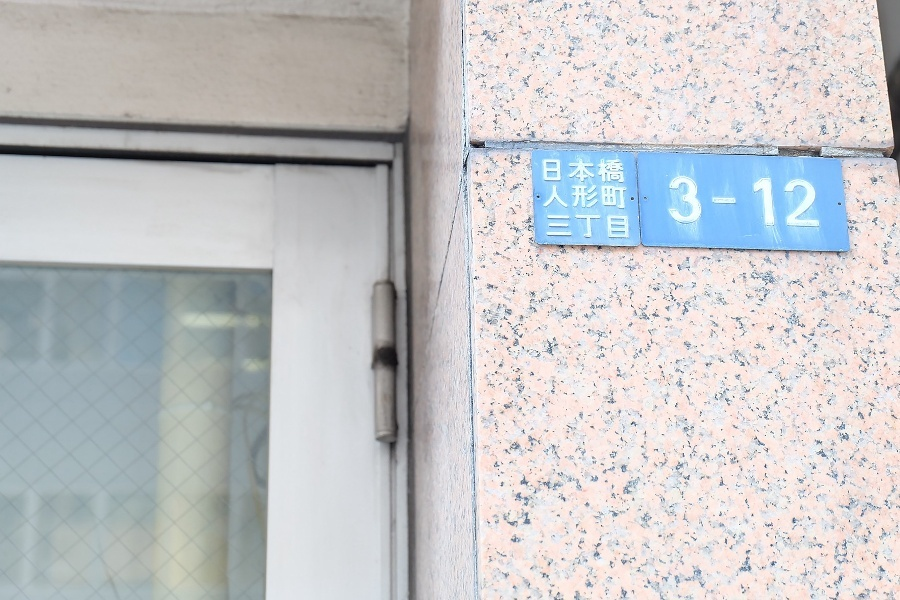text: (673, 177, 688, 228), (689, 177, 704, 228), (705, 177, 720, 228), (721, 177, 736, 228), (737, 177, 752, 228), (753, 177, 768, 228), (769, 177, 784, 228), (785, 177, 800, 228), (801, 177, 816, 228), (609, 159, 625, 184), (545, 159, 560, 184), (561, 159, 576, 184), (577, 159, 592, 184), (593, 159, 608, 184), (545, 186, 560, 210), (561, 186, 576, 210), (577, 186, 592, 210), (593, 186, 608, 210), (609, 186, 624, 210), (547, 215, 560, 237), (561, 215, 572, 237), (668, 177, 672, 228), (817, 177, 820, 228), (625, 186, 628, 210), (543, 159, 544, 184)
